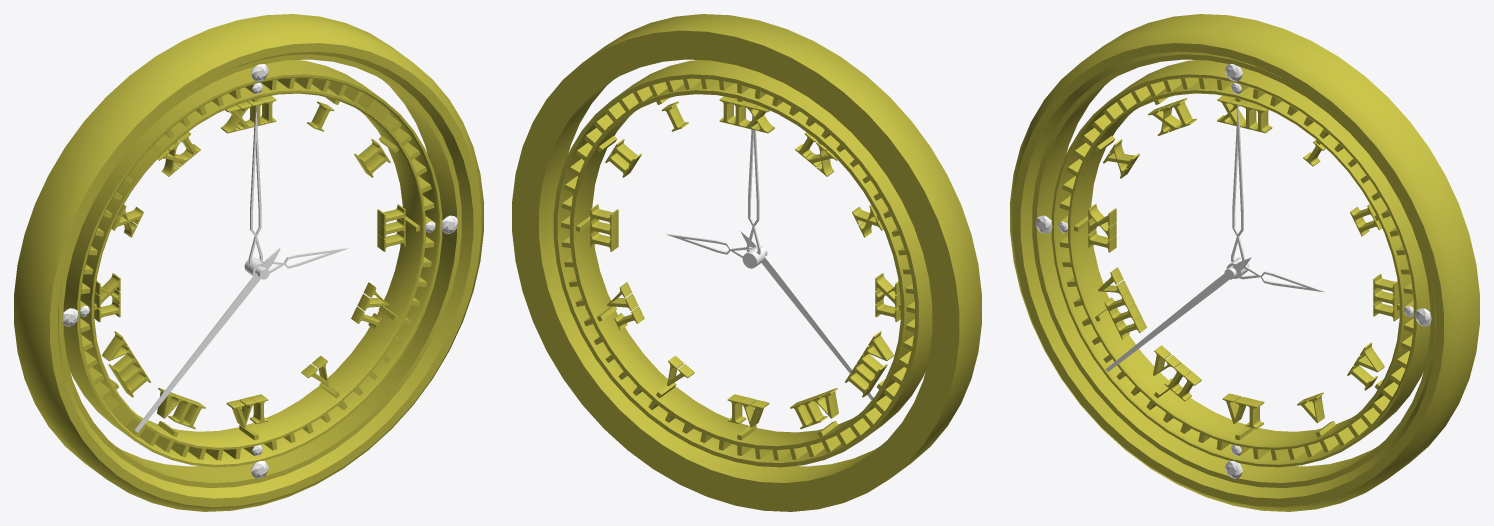
The model's file is classic_clock.glb.
3 views of the same model, side by side, from view 1: azimuth 30°, elevation 25°; view 2: azimuth 150°, elevation 25°; view 3: azimuth 330°, elevation 25° (orthographic).
Visible parts, largest first — view 1: Object_2, Object_5, Object_4, Object_3; view 2: Object_2, Object_5, Object_4; view 3: Object_2, Object_5, Object_3, Object_4.
Part boxes in pixels (x1,y1,x2,y2): Object_2: (14,14,483,511); Object_5: (244,105,348,275); Object_4: (135,248,280,432); Object_3: (62,64,458,478); Object_2: (512,14,981,511); Object_5: (666,115,765,268); Object_4: (740,230,874,400); Object_2: (1010,14,1479,511); Object_5: (1226,105,1325,292); Object_3: (1035,64,1431,478); Object_4: (1105,257,1251,371).
Size of the model in its own units: 10.42 by 10.44 by 1.13.
